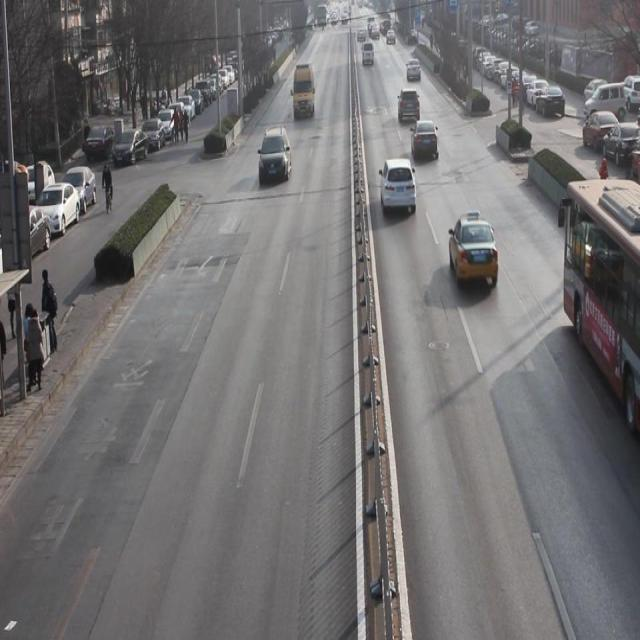car: (448, 215, 501, 292), (380, 158, 420, 222), (260, 128, 290, 192), (410, 119, 442, 164), (398, 86, 422, 127), (408, 59, 423, 83)
truck: (294, 65, 317, 126), (361, 40, 378, 68)
van: (560, 181, 640, 432)
